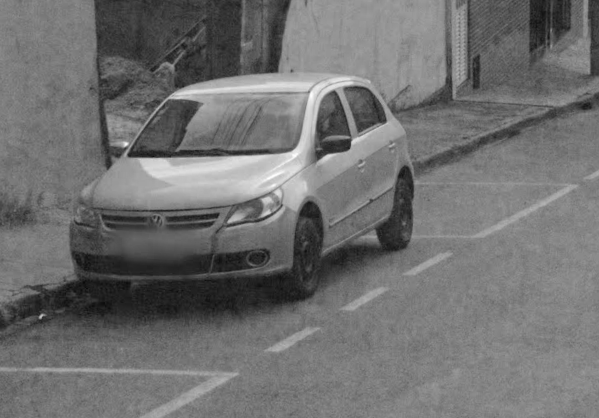car: (63, 65, 422, 311)
